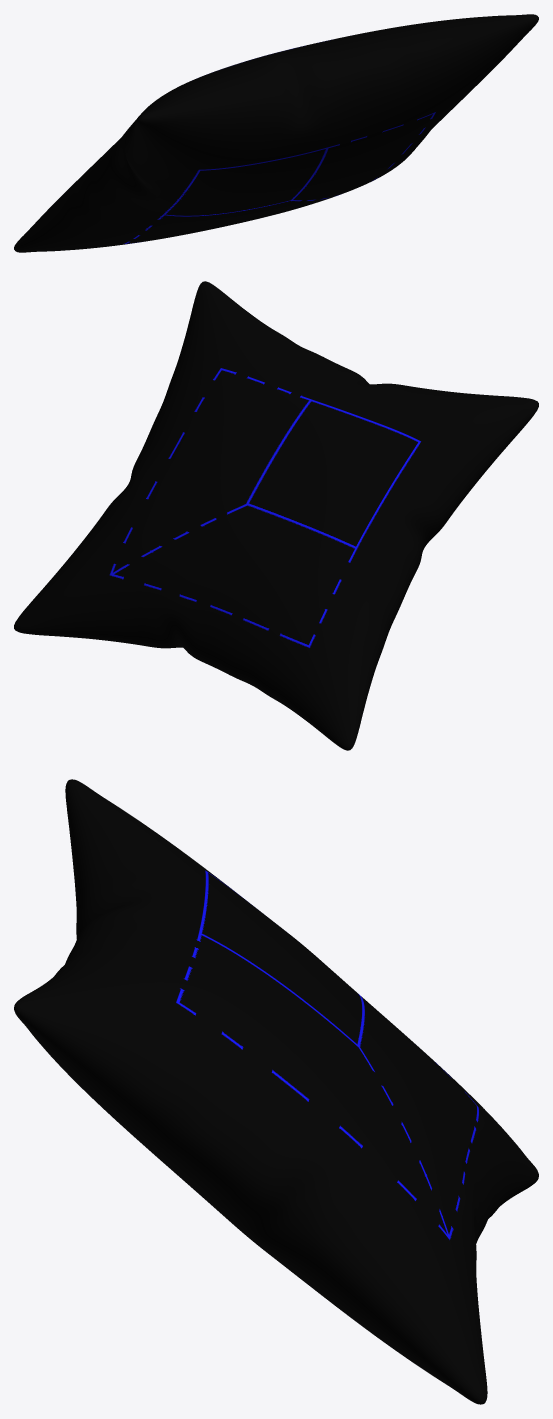
File: sizelevelquilt.fbx
3 renders of one model, top to bottom at view 1: azimuth 30°, elevation 25°; view 2: azimuth 150°, elevation 25°; view 3: azimuth 270°, elevation 25°, orthographic. The views are drawn at different scales.
Parts seen in each view (by area): view 1: Plane; view 2: Plane; view 3: Plane.
Part boxes in pixels (bbox=[...]): Plane: bbox=[14, 14, 538, 252]; Plane: bbox=[14, 281, 538, 750]; Plane: bbox=[14, 779, 538, 1404].
Size of the model in its own units: 316 by 208 by 242.
1 material, 1 textured.
